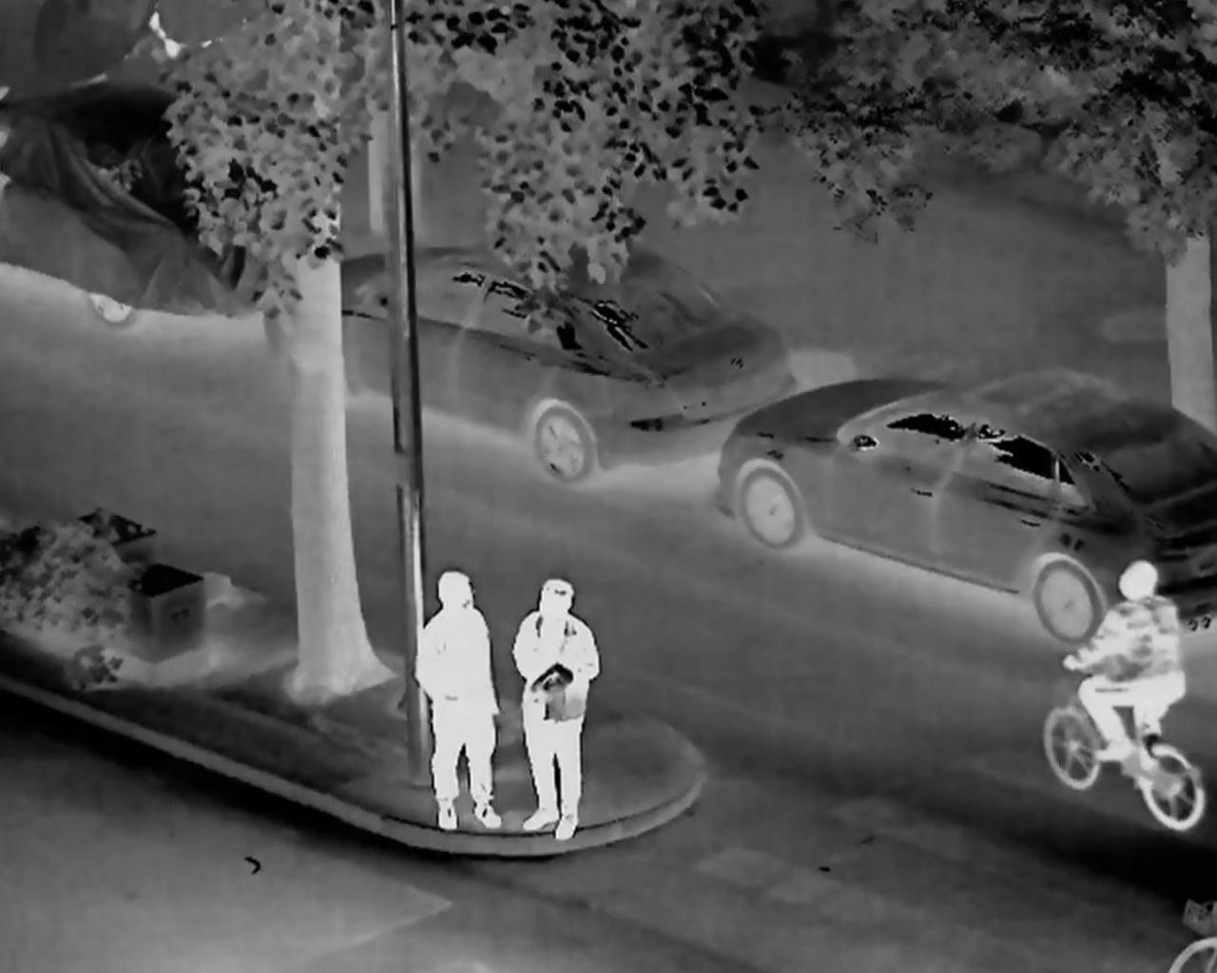person: (1054, 557, 1181, 831), (499, 561, 606, 838), (406, 564, 512, 827)
